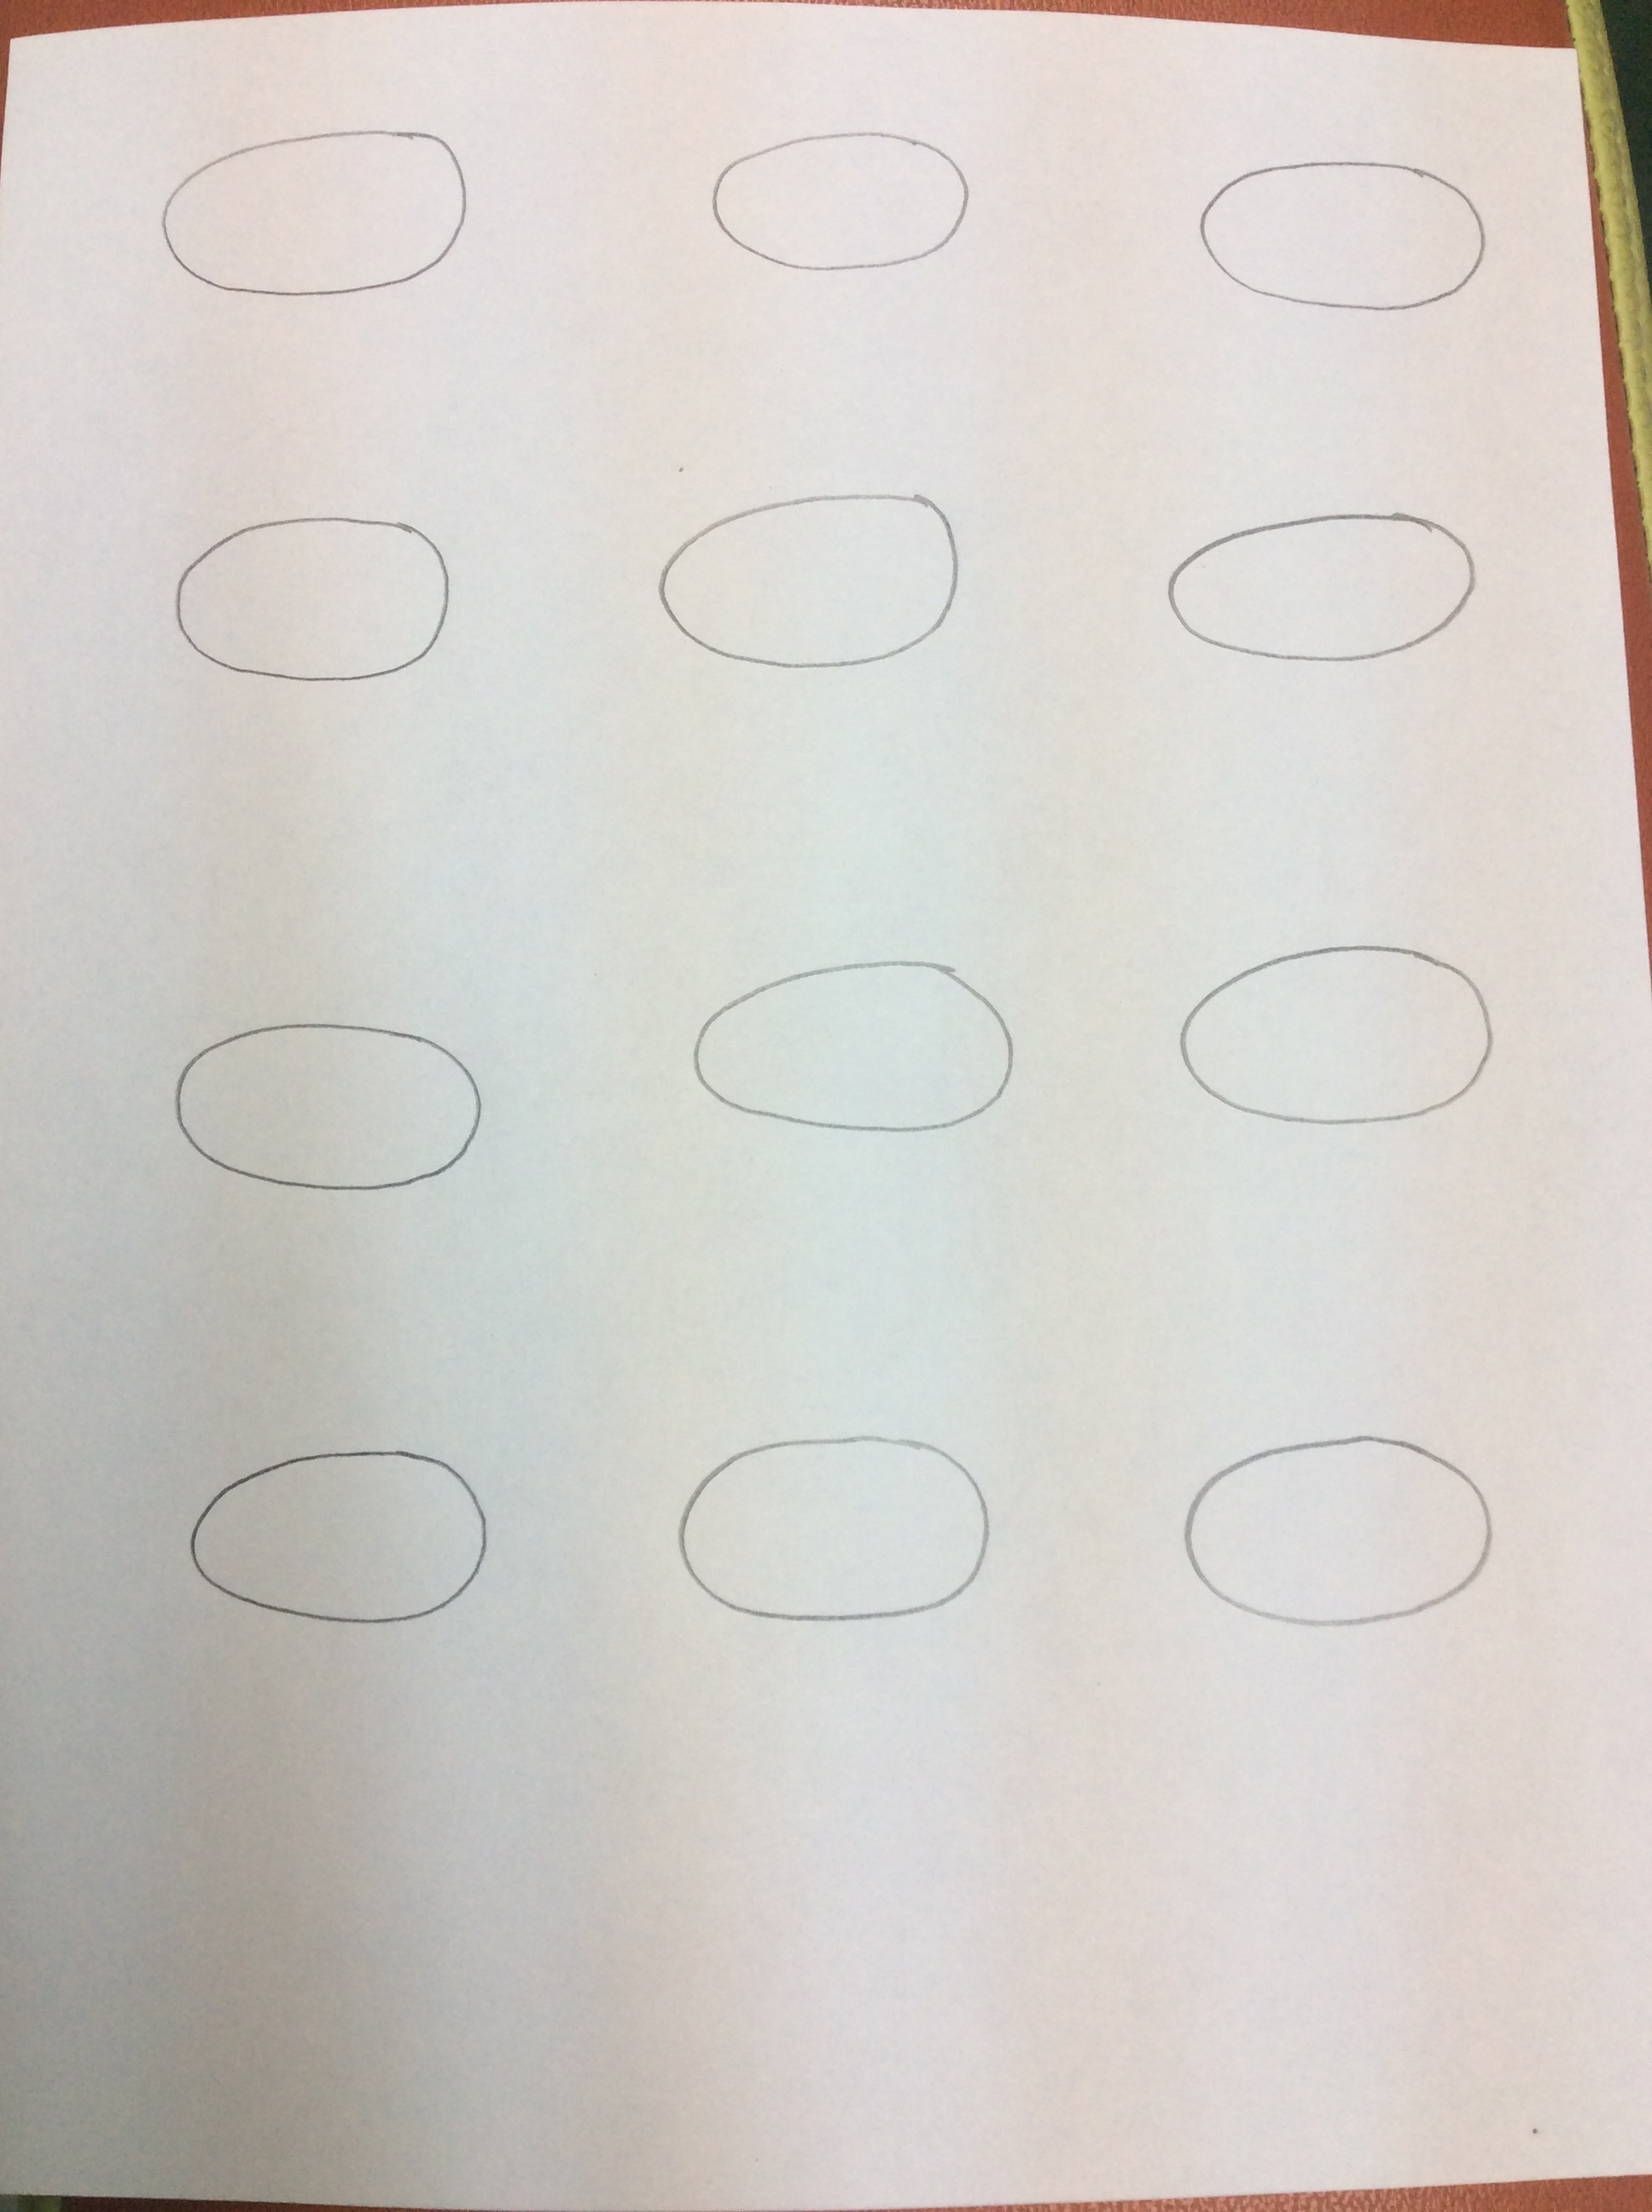start_end: (658, 925, 1029, 1178), (1138, 1407, 1513, 1655), (613, 451, 980, 696), (654, 1400, 1005, 1655), (1138, 914, 1506, 1157), (118, 474, 482, 713), (142, 1417, 503, 1648), (1156, 120, 1506, 352), (128, 998, 500, 1211), (1138, 477, 1491, 696), (132, 113, 496, 317), (680, 99, 984, 304)
